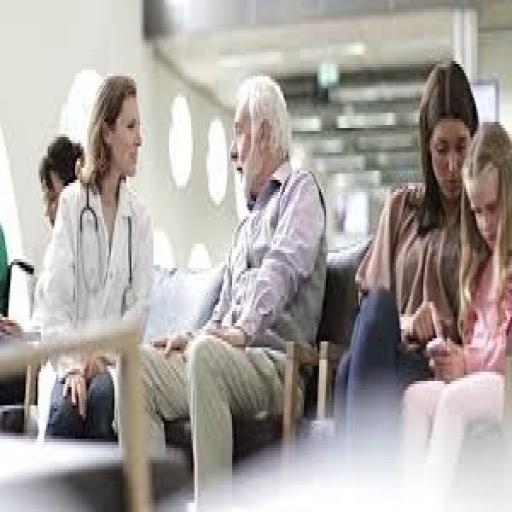sitting: (131, 70, 328, 509), (331, 55, 483, 460), (31, 70, 155, 445), (398, 116, 510, 500)
